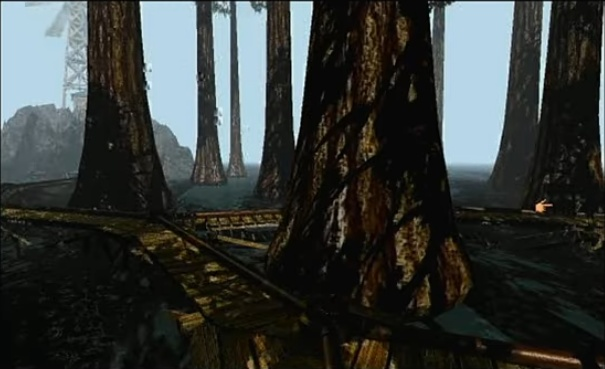Pointer: (533, 196, 555, 215)
